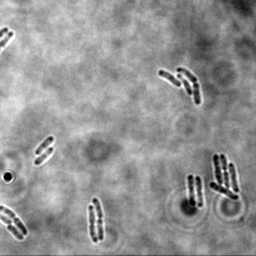Dividing: (1, 205, 29, 236), (91, 197, 104, 242), (88, 204, 98, 244), (194, 174, 204, 208)
Microcolony: (157, 66, 203, 106), (208, 152, 240, 201)
Rod: (33, 147, 55, 166), (35, 135, 54, 156), (186, 174, 196, 206), (6, 224, 24, 241)
